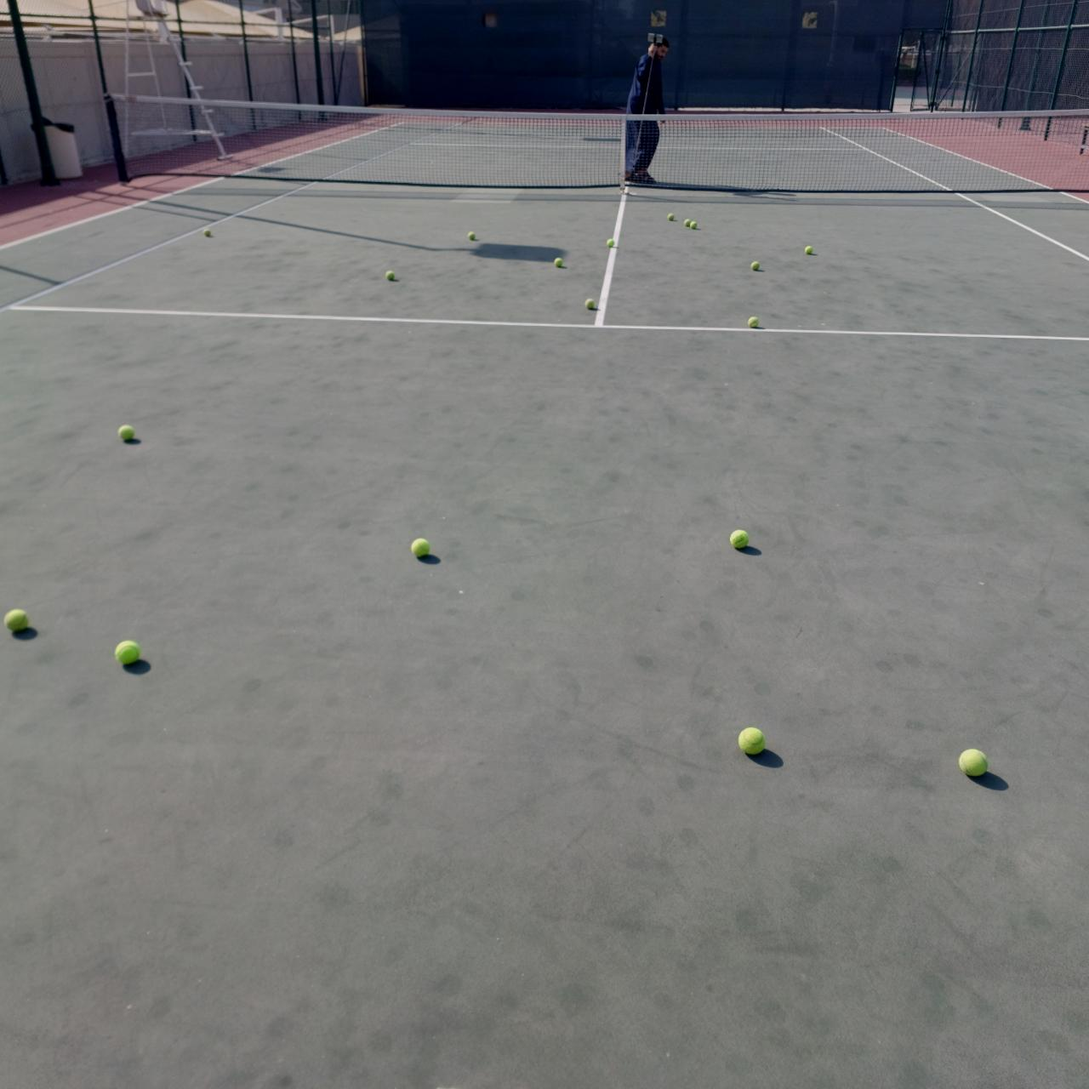tennis-ball: (957, 745, 988, 778), (736, 724, 766, 755), (3, 606, 29, 632), (113, 639, 140, 664), (728, 527, 749, 549), (410, 537, 430, 558), (117, 422, 135, 440), (748, 316, 759, 328), (585, 298, 594, 309), (751, 261, 760, 271), (386, 271, 395, 280), (606, 239, 615, 248), (805, 245, 813, 255), (554, 258, 562, 267), (468, 232, 476, 240), (690, 221, 698, 229), (684, 219, 691, 227), (204, 230, 211, 237), (667, 213, 674, 220)
